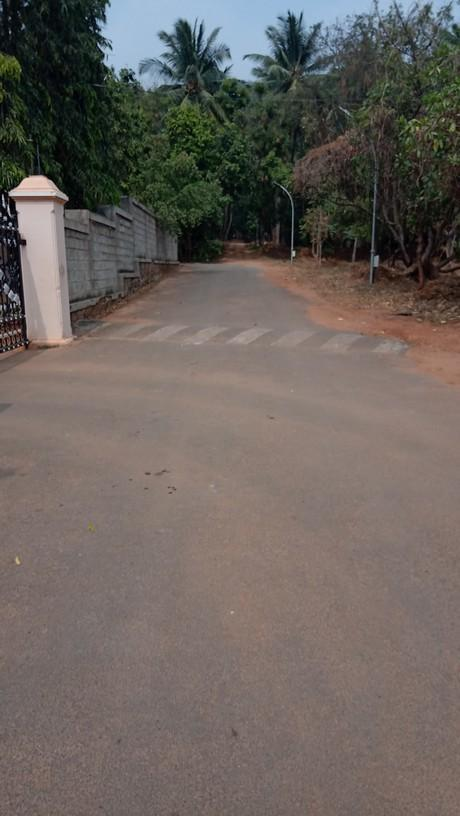speedbreaker: (81, 306, 412, 366)
